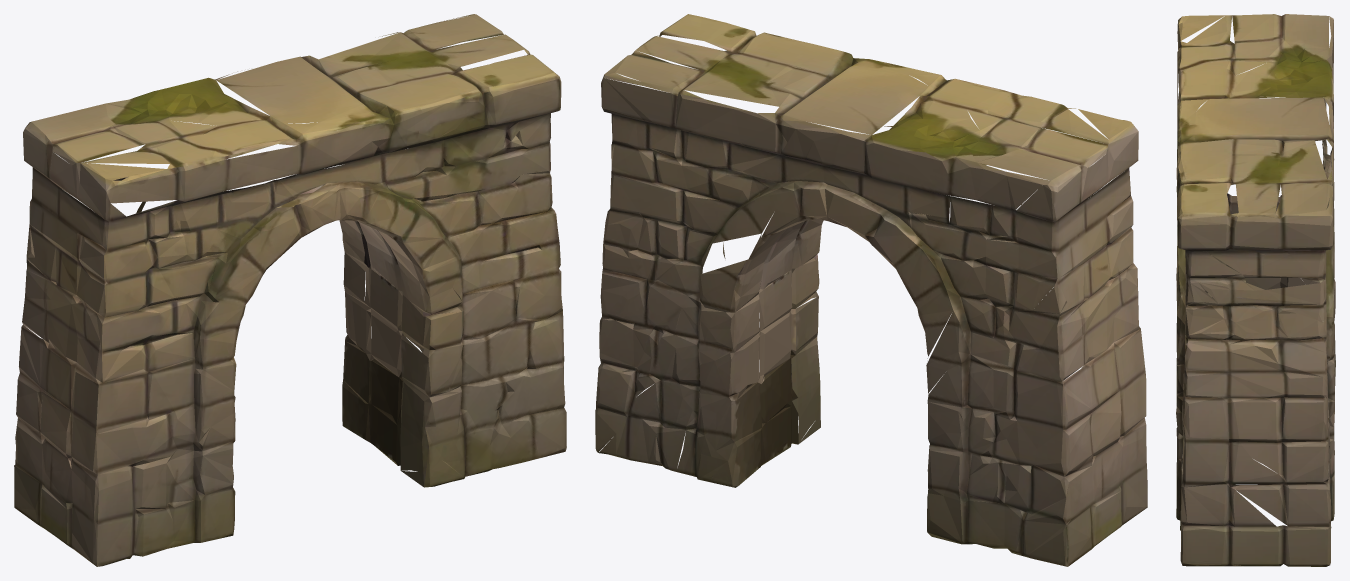
Rendered from aqueduct.glb.
3 views of the same model, side by side, from view 1: azimuth 30°, elevation 25°; view 2: azimuth 150°, elevation 25°; view 3: azimuth 270°, elevation 25° (orthographic). The views are drawn at different scales.
Parts seen in each view (by area): view 1: geometry_0; view 2: geometry_0; view 3: geometry_0.
Boxes of the visible parts, <box> form: geometry_0: <box>14,14,566,566</box>; geometry_0: <box>595,14,1147,566</box>; geometry_0: <box>1176,14,1335,566</box>.
Size of the model in its own units: 0.9995 by 0.7731 by 0.3203.
Materials: 1 (1 with a texture image).
